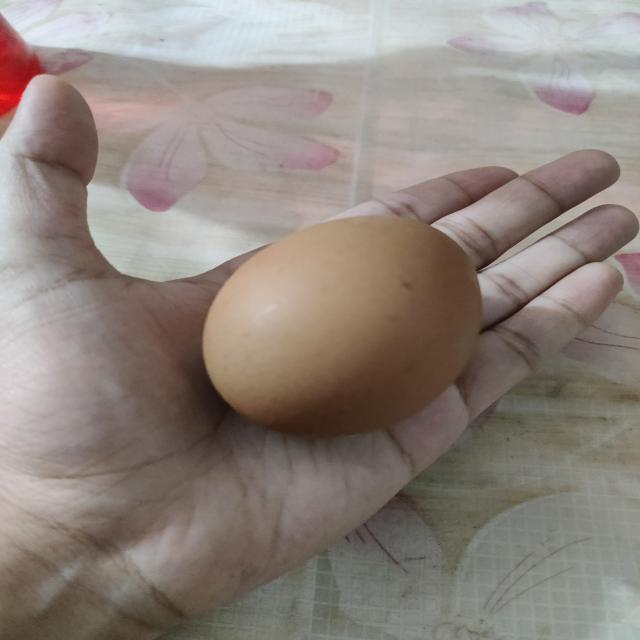Egg: (200, 214, 488, 439)
